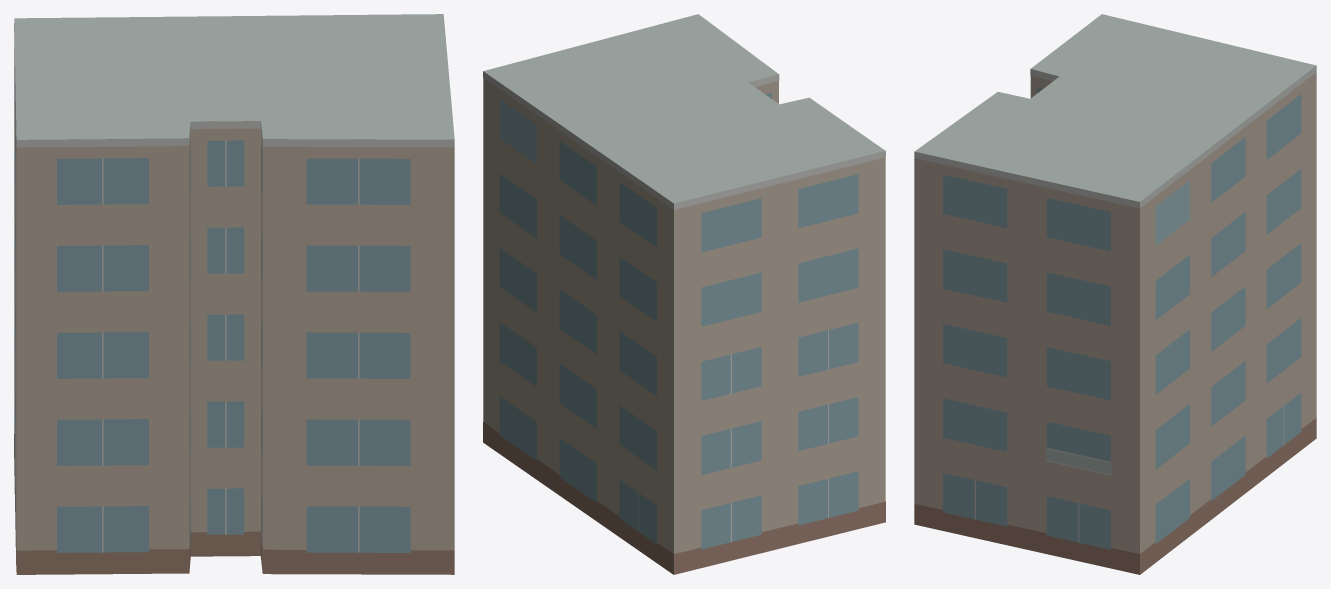
Rendered from survey-upis-32868987.glb.
3 views of the same model, side by side, from view 1: azimuth 30°, elevation 25°; view 2: azimuth 150°, elevation 25°; view 3: azimuth 270°, elevation 25° (orthographic). The views are drawn at different scales.
Parts seen in each view (by area): view 1: survey-upis-32868987.tmp; view 2: survey-upis-32868987.tmp; view 3: survey-upis-32868987.tmp.
Boxes of the visible parts, x1=… form: survey-upis-32868987.tmp: x1=14, y1=14, x2=454, y2=574; survey-upis-32868987.tmp: x1=483, y1=14, x2=885, y2=574; survey-upis-32868987.tmp: x1=914, y1=14, x2=1316, y2=574.
Size of the model in its own units: 15.04 by 13.9 by 13.6.
